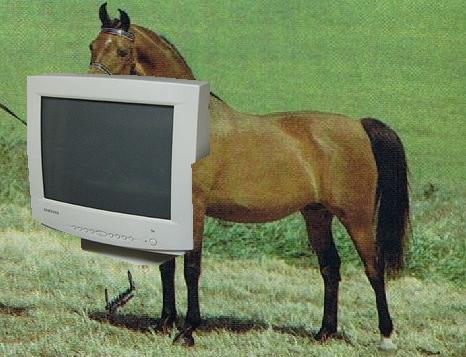tampered: (28, 74, 210, 265)
